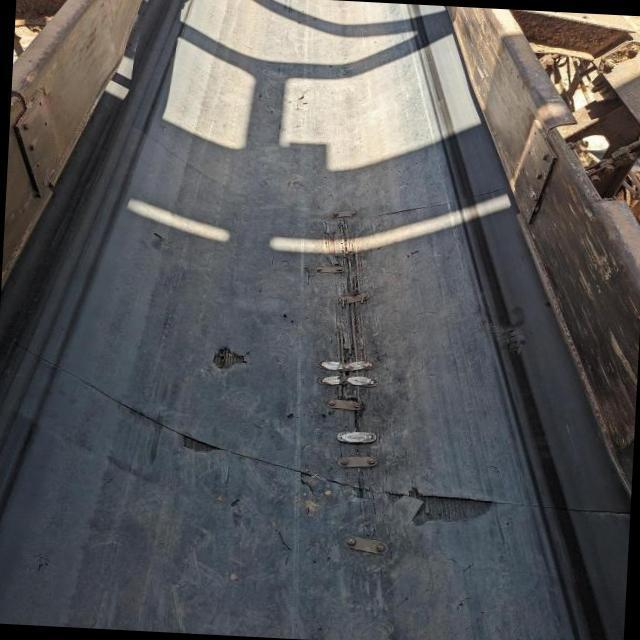Tear: (58, 360, 541, 531), (327, 216, 379, 501), (366, 197, 448, 227), (212, 340, 248, 372), (147, 225, 165, 253)
